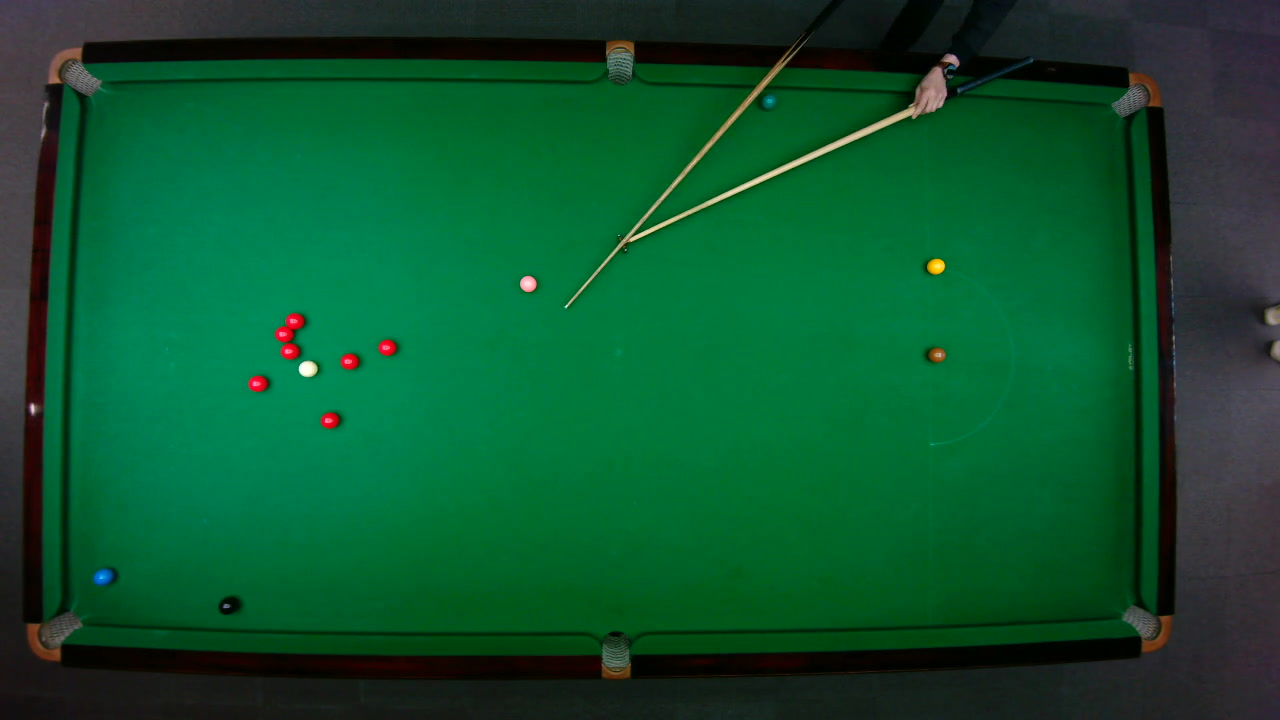bag: (24, 609, 83, 661), (45, 46, 102, 96), (1119, 603, 1171, 652), (1108, 71, 1162, 117), (600, 629, 630, 680), (605, 38, 633, 85)
black: (217, 595, 238, 615)
blue: (91, 566, 114, 585)
brown: (926, 346, 946, 362)
cue: (561, 0, 845, 312)
green: (760, 93, 777, 109)
pink: (518, 274, 537, 292)
red: (284, 311, 305, 330), (319, 410, 340, 429), (246, 374, 268, 392), (273, 324, 293, 342), (377, 338, 397, 356), (279, 342, 300, 359), (339, 352, 359, 369)
white: (297, 359, 318, 377)
yellow: (925, 257, 946, 275)
zone: (926, 265, 1013, 445)
